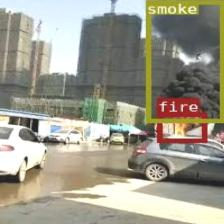fire: (156, 112, 206, 142)
smoke: (145, 0, 223, 121)
